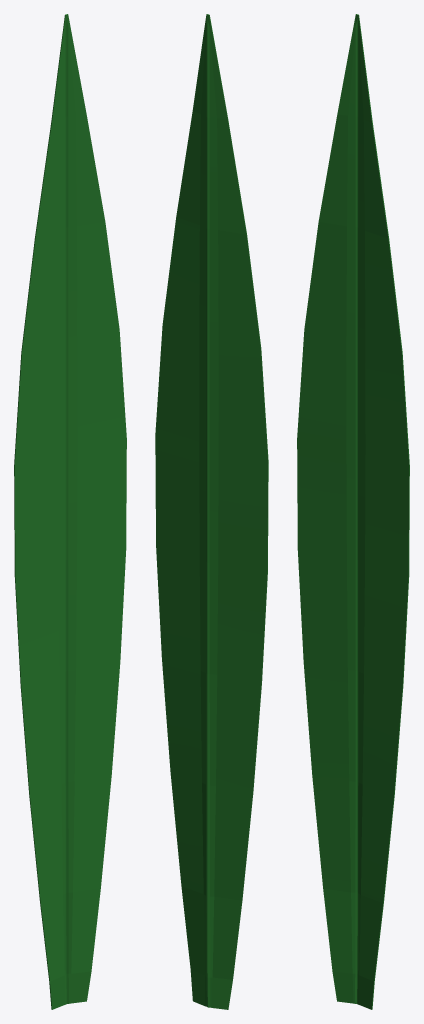
File: leaf.fbx
3 views of the same model, side by side, from view 1: azimuth 30°, elevation 25°; view 2: azimuth 150°, elevation 25°; view 3: azimuth 330°, elevation 25° (orthographic).
Visible parts, largest first — view 1: Plane; view 2: Plane; view 3: Plane.
Boxes of the visible parts, left/top/right/bottom form: Plane: left=14, top=14, right=126, bottom=1009; Plane: left=155, top=14, right=268, bottom=1009; Plane: left=297, top=14, right=409, bottom=1009.
Bounding box in the file's own units: 23.57 × 198 × 1.84.
